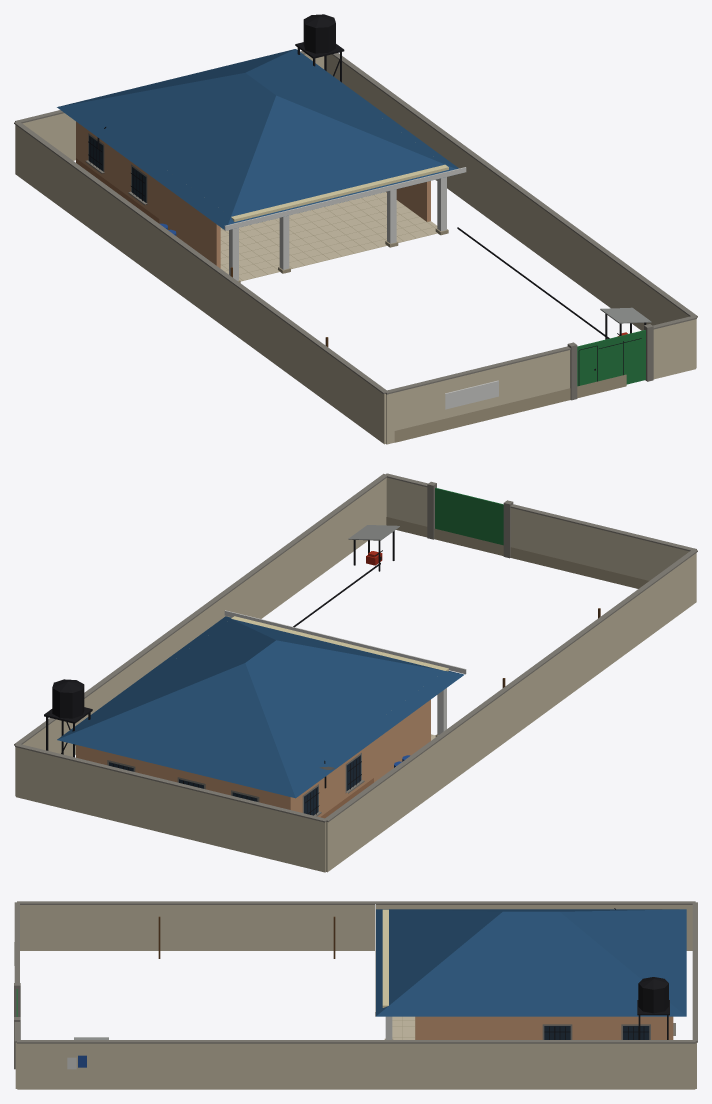
The model's file is bld_family-house.glb.
The picture shows the model from 3 angles, top to bottom: view 1: azimuth 30°, elevation 25°; view 2: azimuth 150°, elevation 25°; view 3: azimuth 270°, elevation 25°; orthographic projection. The views are drawn at different scales.
Parts seen in each view (by area): view 1: body; view 2: body; view 3: body.
Boxes of the visible parts, bbox=[...] form: body: bbox=[14, 14, 697, 444]; body: bbox=[14, 473, 697, 872]; body: bbox=[14, 901, 697, 1089].
Size of the model in its own units: 15.25 by 5.43 by 31.27.
